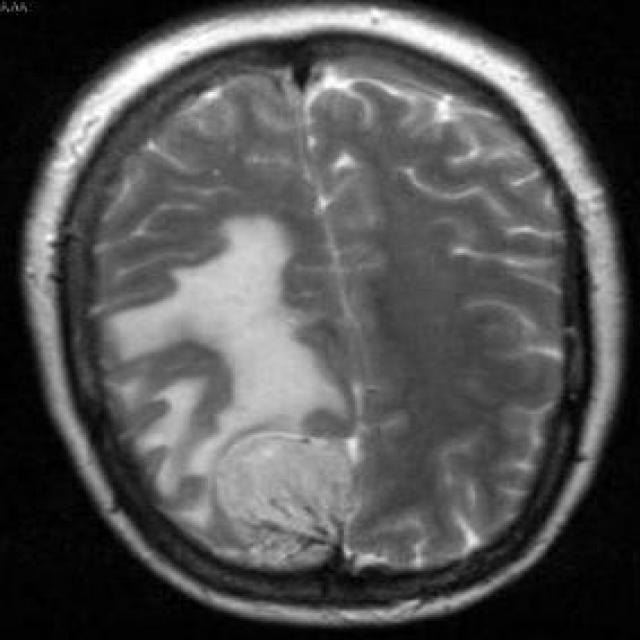Tumor-Cell: (209, 407, 385, 569)
